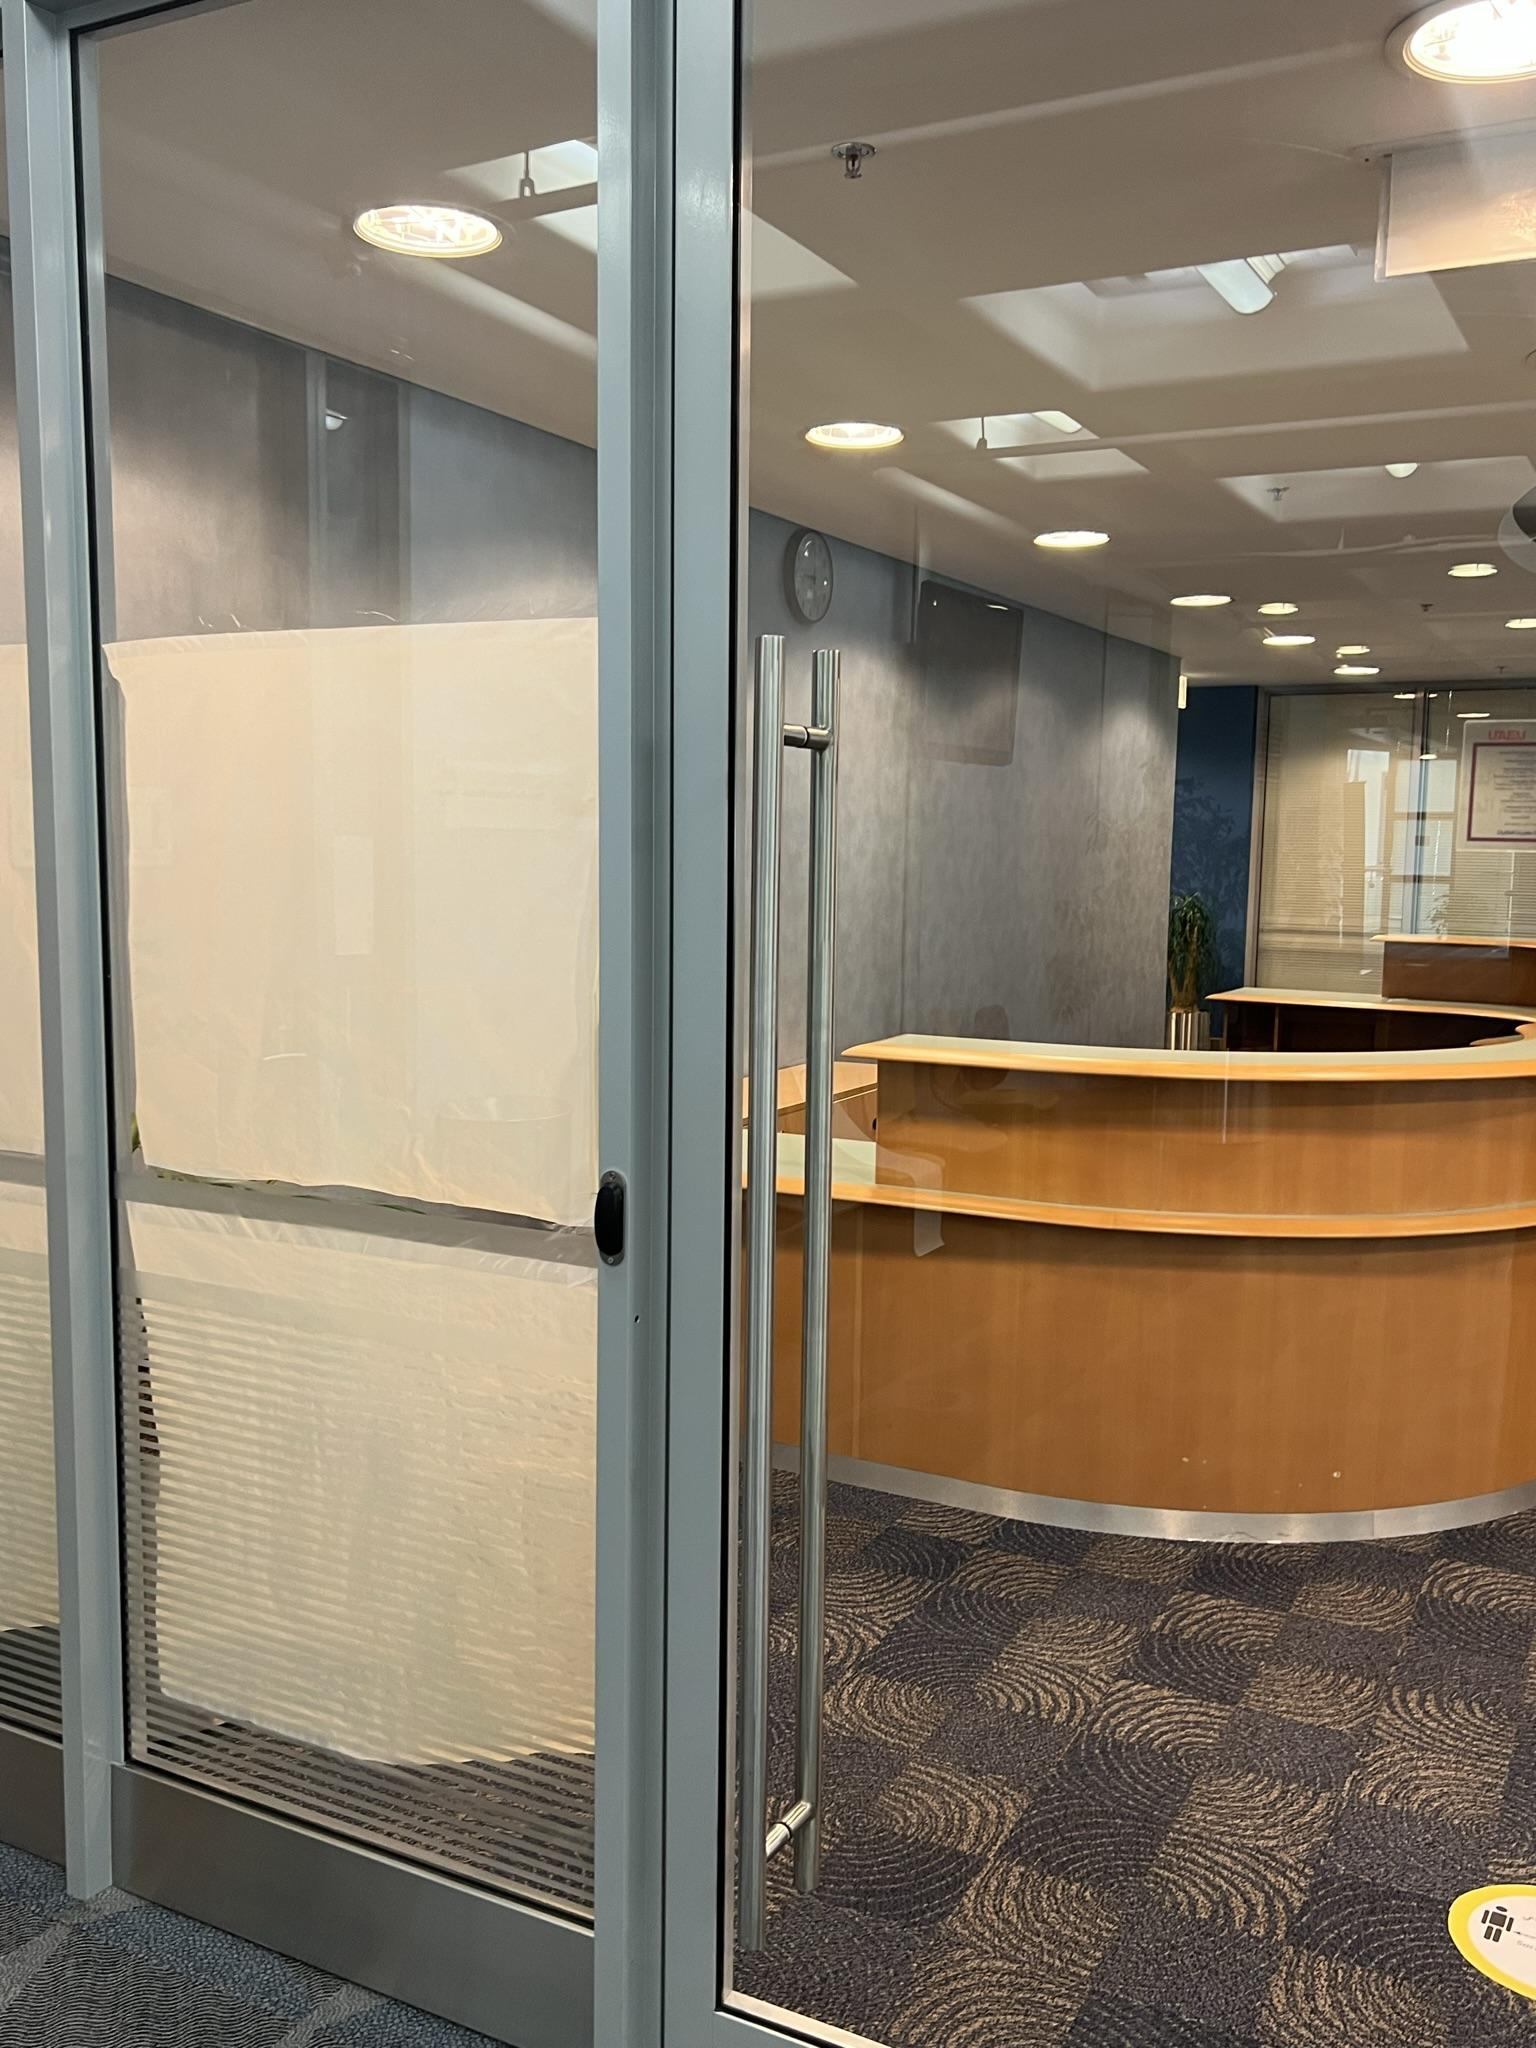door: (695, 0, 1536, 2048), (737, 640, 800, 1967)
